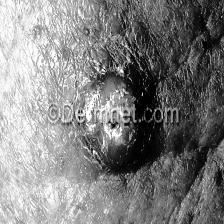Benign Marking or Mole: (72, 73, 154, 171)
